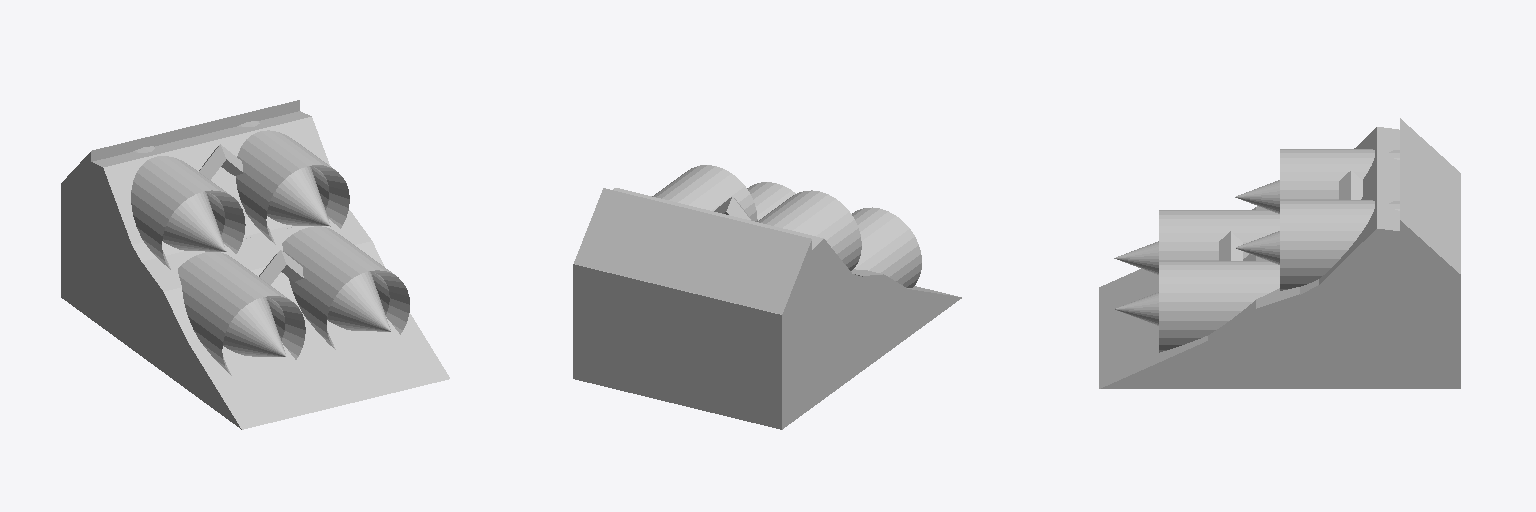
The model's file is Large_GSO_Intake.obj.
3 views of the same model, side by side, from view 1: azimuth 30°, elevation 25°; view 2: azimuth 150°, elevation 25°; view 3: azimuth 270°, elevation 25° (orthographic).
Parts seen in each view (by area): view 1: Cube_Cube.001; view 2: Cube_Cube.001; view 3: Cube_Cube.001.
Boxes of the visible parts, <box> form: Cube_Cube.001: <box>61,100,449,429</box>; Cube_Cube.001: <box>573,165,961,429</box>; Cube_Cube.001: <box>1099,118,1460,388</box>.
Bounding box in the file's own units: 2 × 1.59 × 3.